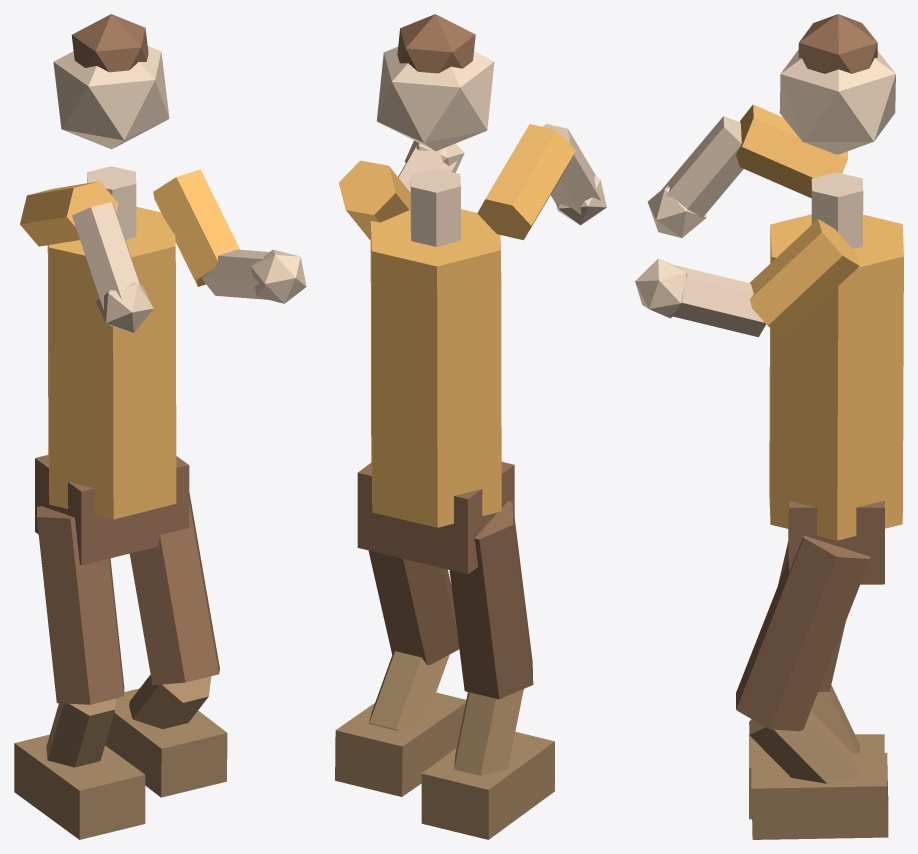
The model's file is pose_attack_1_01.glb.
3 renders of one model, left to right at view 1: azimuth 30°, elevation 25°; view 2: azimuth 150°, elevation 25°; view 3: azimuth 270°, elevation 25°, orthographic. The views are drawn at different scales.
Parts seen in each view (by area): view 1: pose; view 2: pose; view 3: pose.
Part boxes in pixels (left/top/right/bottom): pose: left=14, top=14, right=306, bottom=839; pose: left=335, top=14, right=606, bottom=839; pose: left=635, top=14, right=903, bottom=839.
Size of the model in its own units: 0.4227 by 1.58 by 0.4754.
